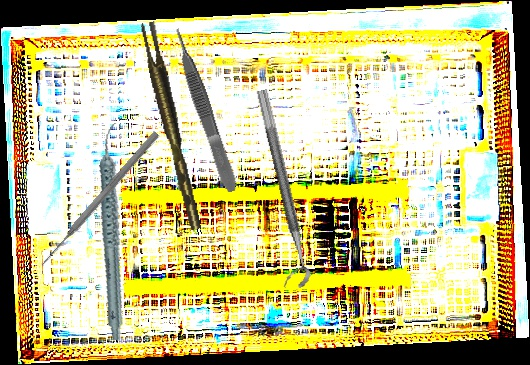Fixation Ring: (239, 88, 314, 292)
Handpiece: (67, 121, 162, 342)
Pusher: (37, 129, 161, 270)
Tissue Forceps: (139, 19, 202, 233), (169, 25, 241, 195)
